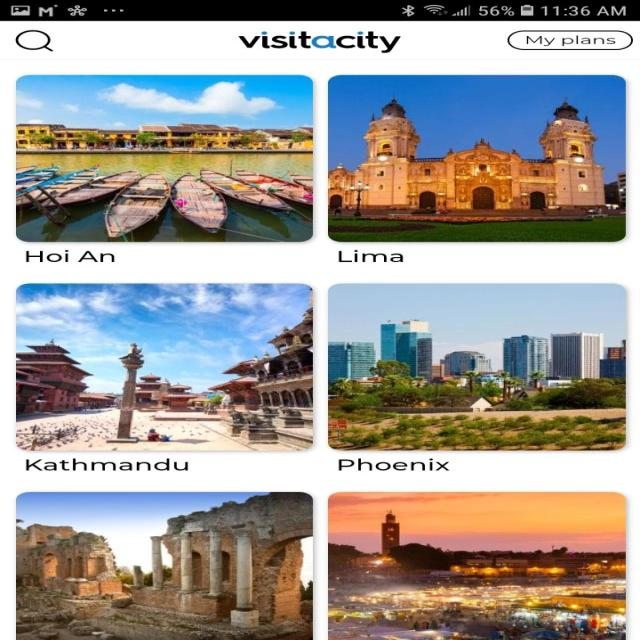Icon: (15, 30, 53, 52)
Image: (15, 282, 313, 450), (327, 283, 625, 451), (328, 75, 626, 242), (16, 75, 313, 242), (15, 492, 313, 640), (327, 492, 625, 640), (237, 30, 401, 53)
Text: (25, 458, 188, 470), (337, 458, 449, 470), (25, 250, 115, 262), (337, 249, 403, 262)
TextButton: (507, 30, 633, 50)
